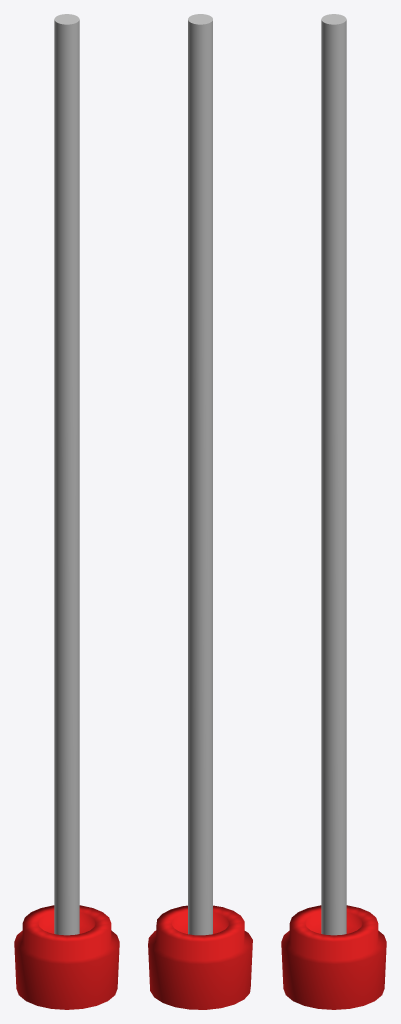
The model's file is flag.obj.
3 views of the same model, side by side, from view 1: azimuth 90°, elevation 25°; view 2: azimuth 150°, elevation 25°; view 3: azimuth 270°, elevation 25° (orthographic).
Parts seen in each view (by area): view 1: pCylinder30, pCylinder29; view 2: pCylinder30, pCylinder29; view 3: pCylinder30, pCylinder29.
Part boxes in pixels (x1=…): pCylinder30: x1=54, y1=14, x2=79, y2=935; pCylinder29: x1=14, y1=905, x2=119, y2=1009; pCylinder30: x1=188, y1=14, x2=212, y2=935; pCylinder29: x1=148, y1=905, x2=252, y2=1009; pCylinder30: x1=321, y1=14, x2=346, y2=935; pCylinder29: x1=281, y1=905, x2=386, y2=1009.
Size of the model in its own units: 0.0261 by 0.265 by 0.0261.
